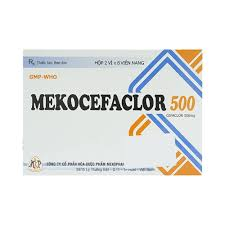Mekocefaclor: (28, 91, 168, 114)
